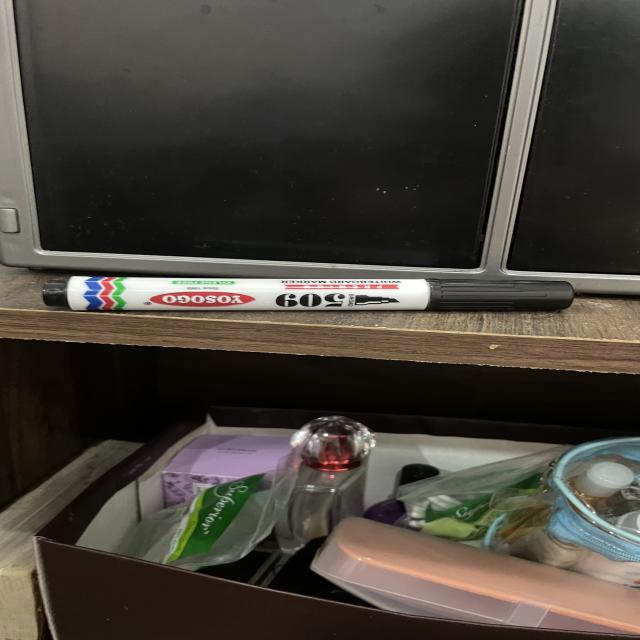marker: (43, 276, 573, 312)
